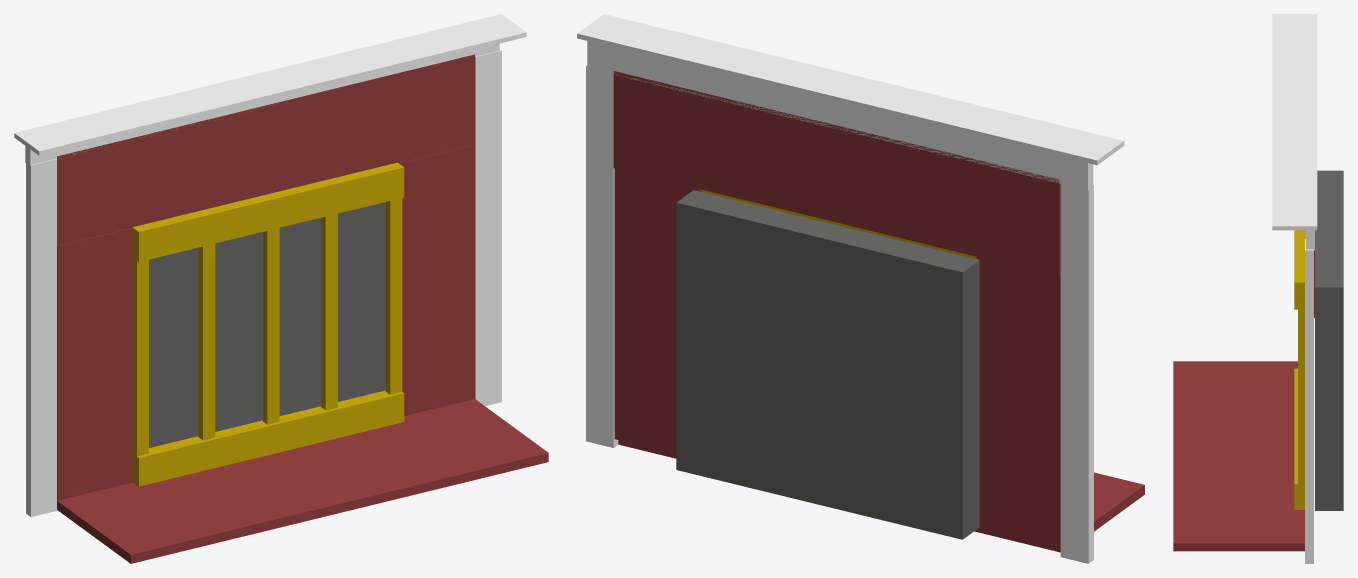
Rendered from fireplace2.obj.
3 renders of one model, left to right at view 1: azimuth 30°, elevation 25°; view 2: azimuth 150°, elevation 25°; view 3: azimuth 270°, elevation 25°, orthographic. The views are drawn at different scales.
Parts seen in each view (by area): view 1: top_section, gray, hearth, left_sdie, right_side, mantle, left_white_trim, top_brass, bottom_brass, right_white_trim, right_brass, left_quarter_brass (+4 smaller); view 2: gray, top_section, left_sdie, right_side, mantle, top_white_trim, left_white_trim, right_white_trim, hearth, top_brass; view 3: hearth, mantle, gray, right_white_trim, right_brass, top_brass, bottom_brass.
Boxes of the visible parts, x1,y1,x2,y2 form: top_section: (57,54,474,245); gray: (149,202,385,447); hearth: (57,399,548,563); left_sdie: (57,228,132,500); right_side: (399,144,474,415); mantle: (14,14,526,155); left_white_trim: (26,159,56,516); top_brass: (132,162,404,261); bottom_brass: (132,390,404,486); right_white_trim: (475,49,501,406); right_brass: (385,198,402,394); left_quarter_brass: (198,243,215,440); gray: (676,190,979,539); top_section: (613,71,1060,276); left_sdie: (976,257,1060,547); right_side: (614,168,701,453); mantle: (577,14,1124,165); top_white_trim: (587,41,1093,190); left_white_trim: (1060,184,1093,563); right_white_trim: (586,65,618,447); hearth: (618,440,1144,552); top_brass: (702,189,976,258); hearth: (1173,361,1304,551); mantle: (1272,14,1317,230); gray: (1315,170,1343,510); right_white_trim: (1305,239,1313,563); right_brass: (1298,309,1304,484); top_brass: (1294,230,1305,309); bottom_brass: (1294,368,1304,509).
Size of the model in its own units: 5.6 by 4.19 by 1.9.
